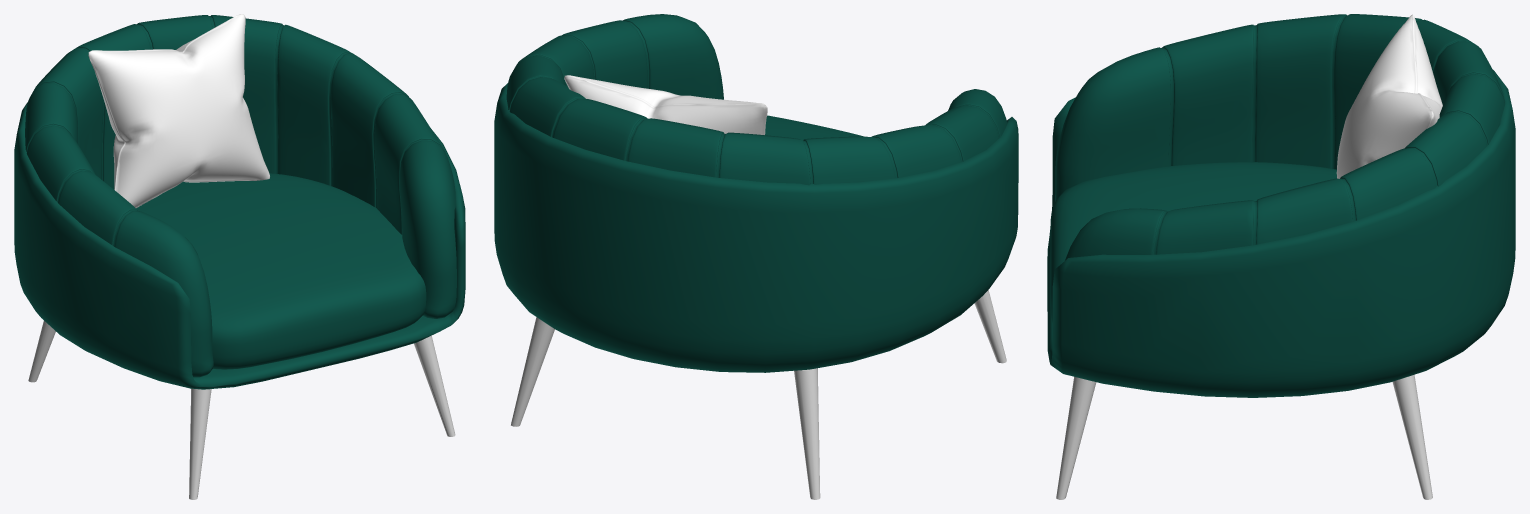
The model's file is chair_3.glb.
The picture shows the model from 3 angles, left to right: view 1: azimuth 30°, elevation 25°; view 2: azimuth 150°, elevation 25°; view 3: azimuth 270°, elevation 25°; orthographic projection. The views are drawn at different scales.
Visible parts, largest first — view 1: Cube001_3, Cube002_4, Cube_2, Plane_6, Cylinder_5; view 2: Cube_2, Cube001_3, Plane_6, Cylinder_5, Cube002_4; view 3: Cube_2, Cube001_3, Cube002_4, Plane_6, Cylinder_5.
Part boxes in pixels (bbox=[...]): Cube001_3: bbox=[25, 15, 456, 377]; Cube002_4: bbox=[136, 173, 426, 369]; Cube_2: bbox=[14, 102, 465, 389]; Plane_6: bbox=[88, 14, 269, 207]; Cylinder_5: bbox=[28, 321, 455, 499]; Cube_2: bbox=[494, 83, 1018, 372]; Cube001_3: bbox=[506, 14, 1007, 185]; Plane_6: bbox=[564, 75, 767, 134]; Cylinder_5: bbox=[511, 290, 1006, 499]; Cube002_4: bbox=[765, 115, 863, 140]; Cube_2: bbox=[1047, 69, 1515, 397]; Cube001_3: bbox=[1055, 14, 1505, 260]; Cube002_4: bbox=[1050, 162, 1336, 322]; Plane_6: bbox=[1336, 14, 1442, 178]; Cylinder_5: bbox=[1056, 374, 1432, 499].
Bounding box in the file's own units: 1.01 × 0.8316 × 0.9601.
